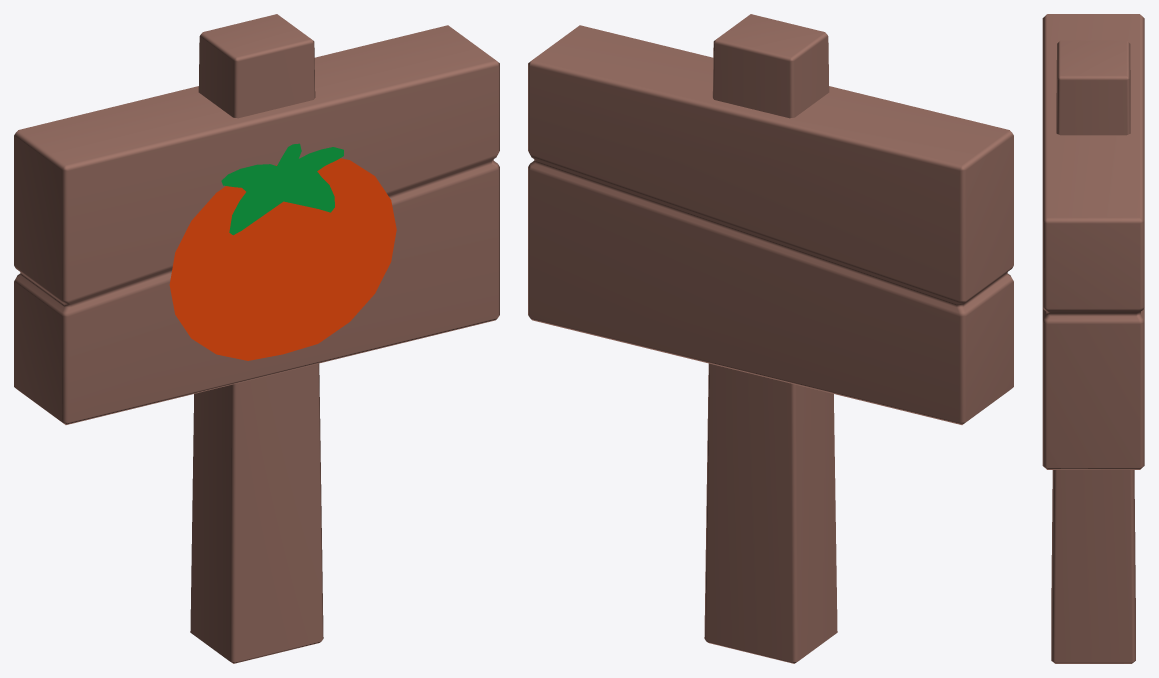
File: Farm_3_Sighn_Tomato_1.glb
The picture shows the model from 3 angles, left to right: view 1: azimuth 30°, elevation 25°; view 2: azimuth 150°, elevation 25°; view 3: azimuth 270°, elevation 25°; orthographic projection. The views are drawn at different scales.
Parts seen in each view (by area): view 1: Farm_3_Sighn_Tomato_1; view 2: Farm_3_Sighn_Tomato_1; view 3: Farm_3_Sighn_Tomato_1.
Boxes of the visible parts, <box> form: Farm_3_Sighn_Tomato_1: <box>14,14,499,663</box>; Farm_3_Sighn_Tomato_1: <box>528,14,1013,663</box>; Farm_3_Sighn_Tomato_1: <box>1042,14,1144,663</box>.
Size of the model in its own units: 1.56 by 2.06 by 0.3255.
1 material, 1 textured.
